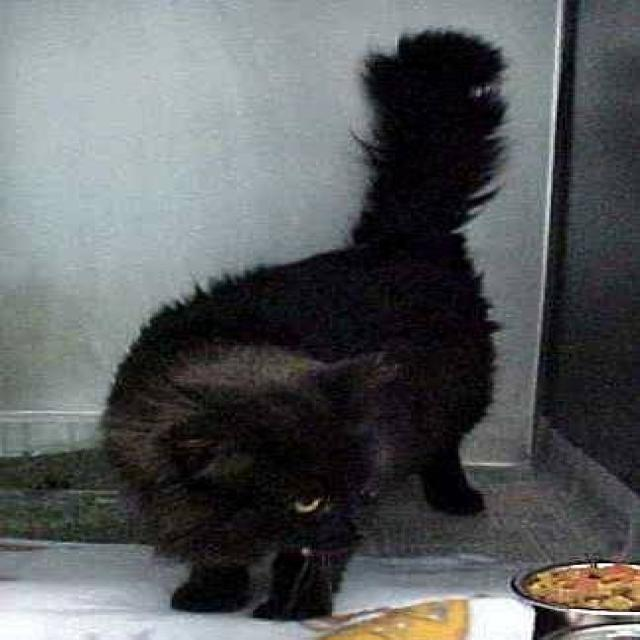cat: (75, 24, 551, 638)
